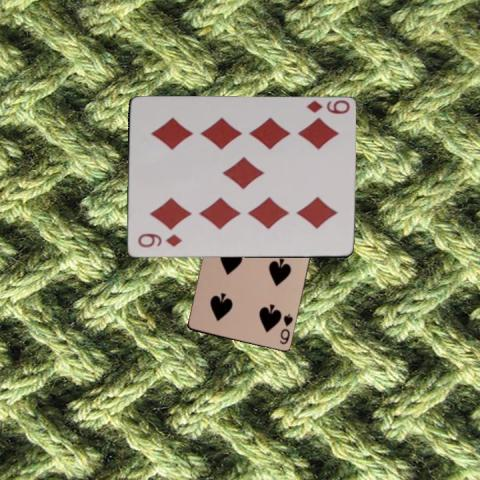6s: (276, 311, 295, 346)
9d: (134, 231, 182, 249), (303, 99, 351, 115)
